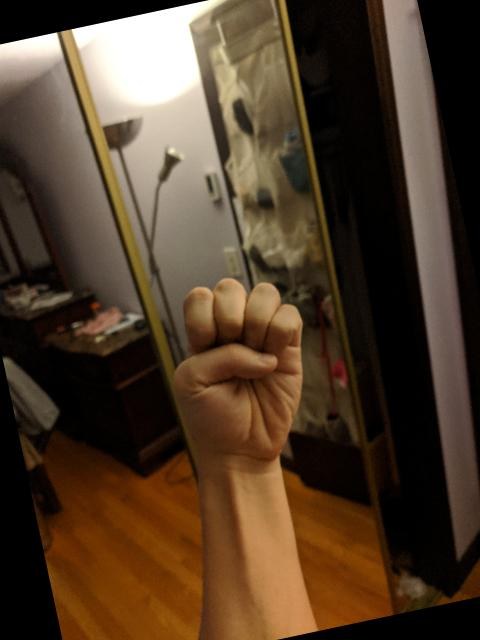E: (146, 259, 334, 486)
